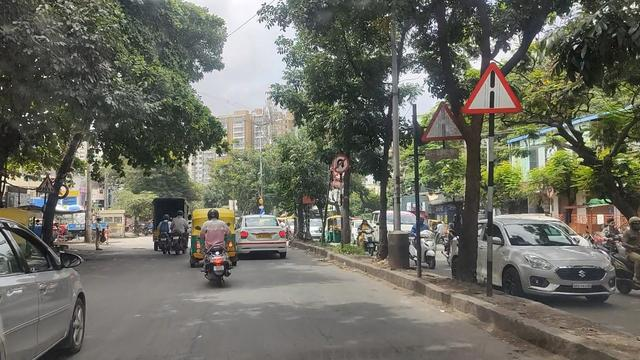LMV: (1, 225, 90, 360), (199, 213, 230, 287), (237, 219, 282, 264)
